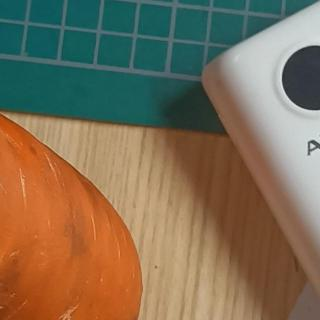carrot: (0, 33, 150, 320)
